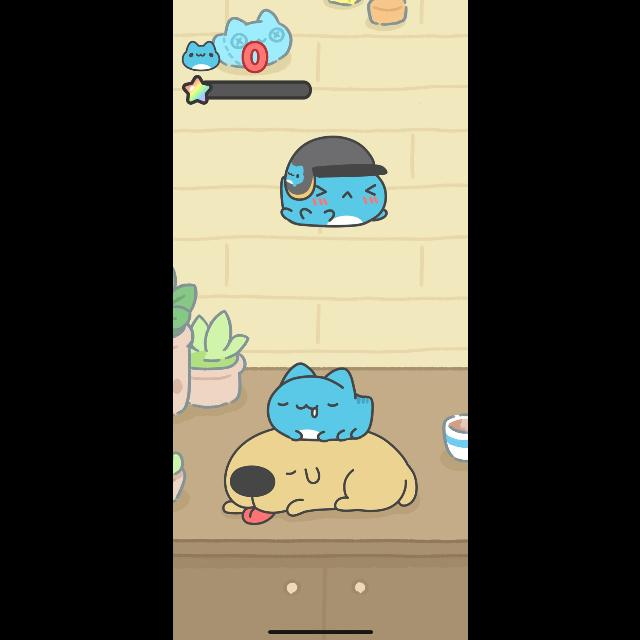capoo: (277, 133, 393, 227), (268, 362, 374, 441)
